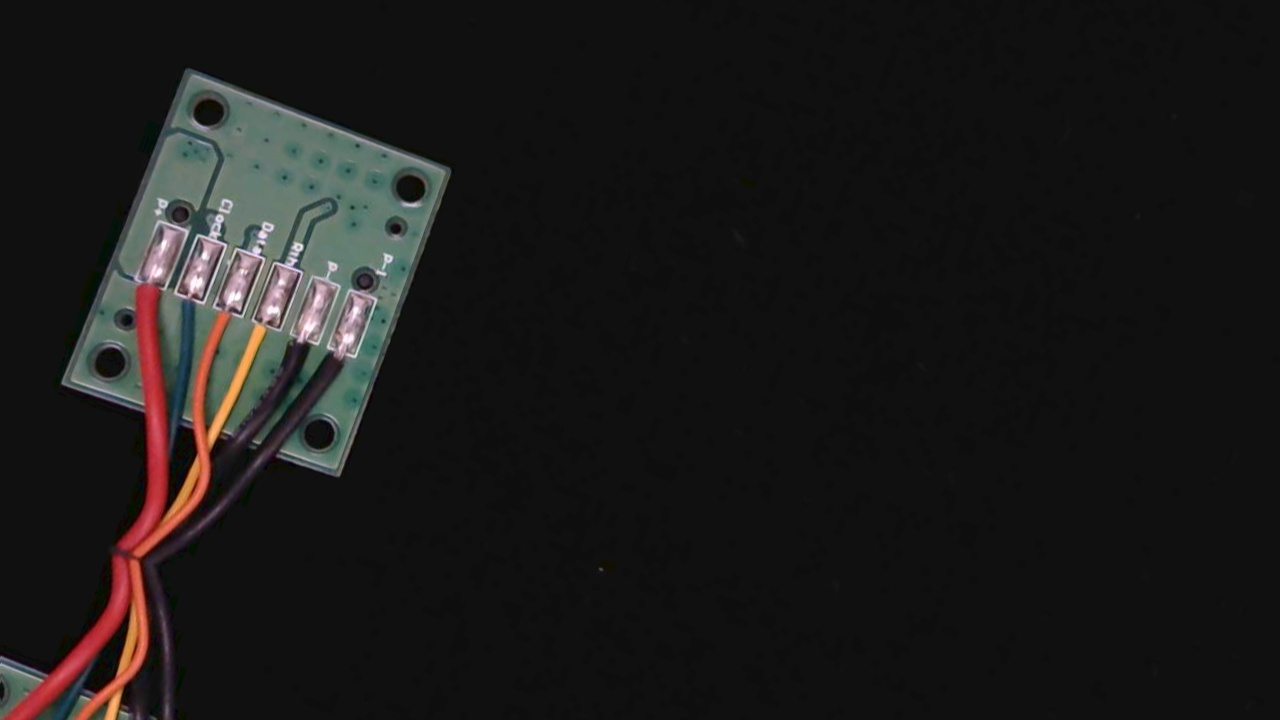Black: (272, 318, 322, 387)
Black1: (310, 329, 364, 404)
Green: (156, 275, 213, 352)
Orange: (193, 288, 249, 367)
Red: (115, 262, 171, 339)
Yellow: (228, 305, 285, 386)
